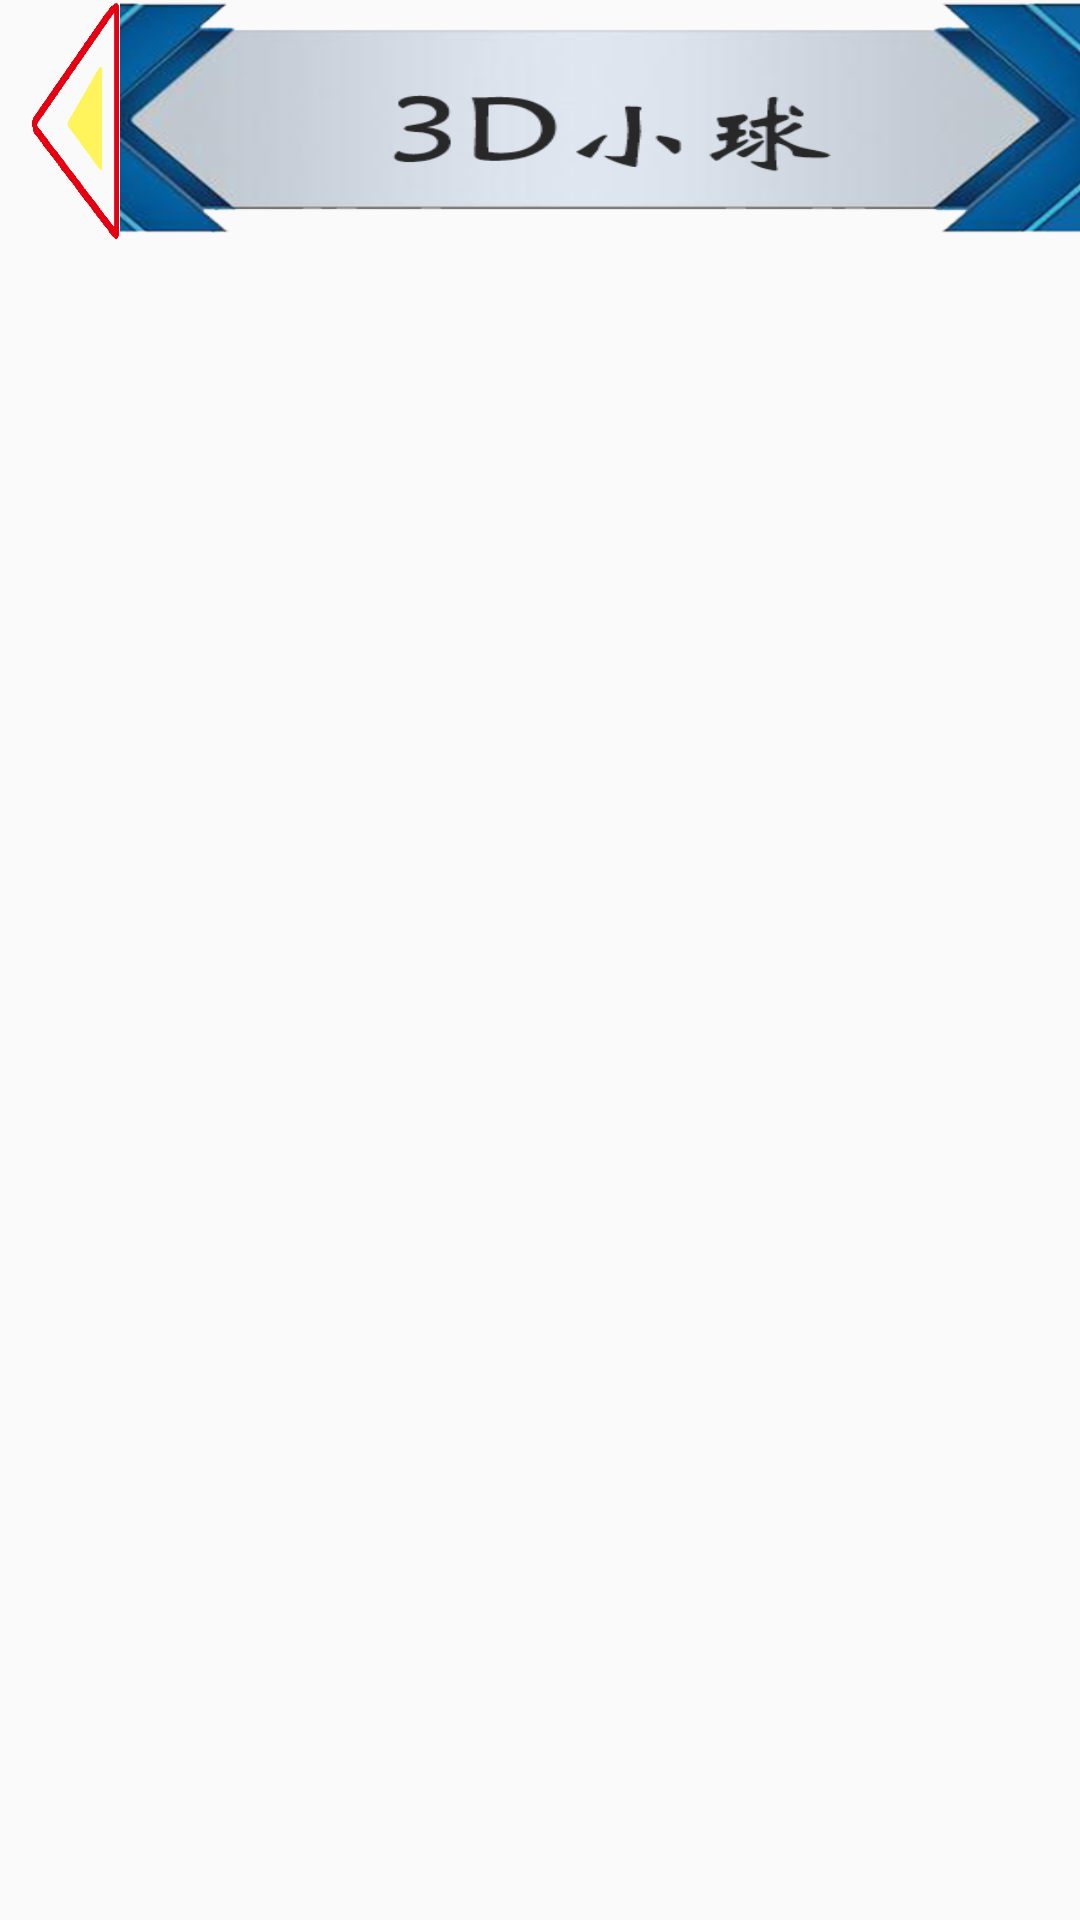

Point at icon controls on the screen. Image size 1080w x 1920h, points as (x=x, y=y).
game view back: (x=75, y=121)
